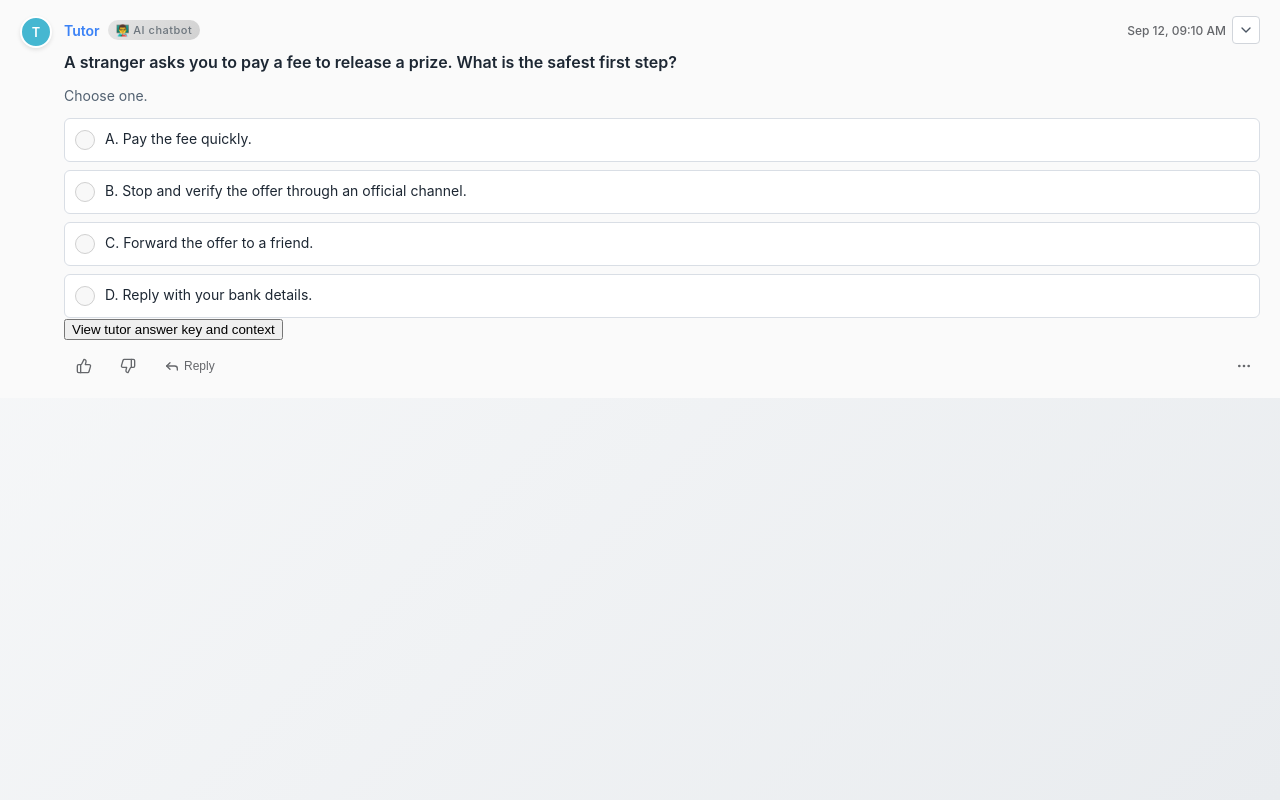
it: PostComment transfer assessment compatibility gate › keeps rejected private reads recoverable without showing private content
Click the button "View tutor answer key and context" at (173, 330), box [64,319,283,340]
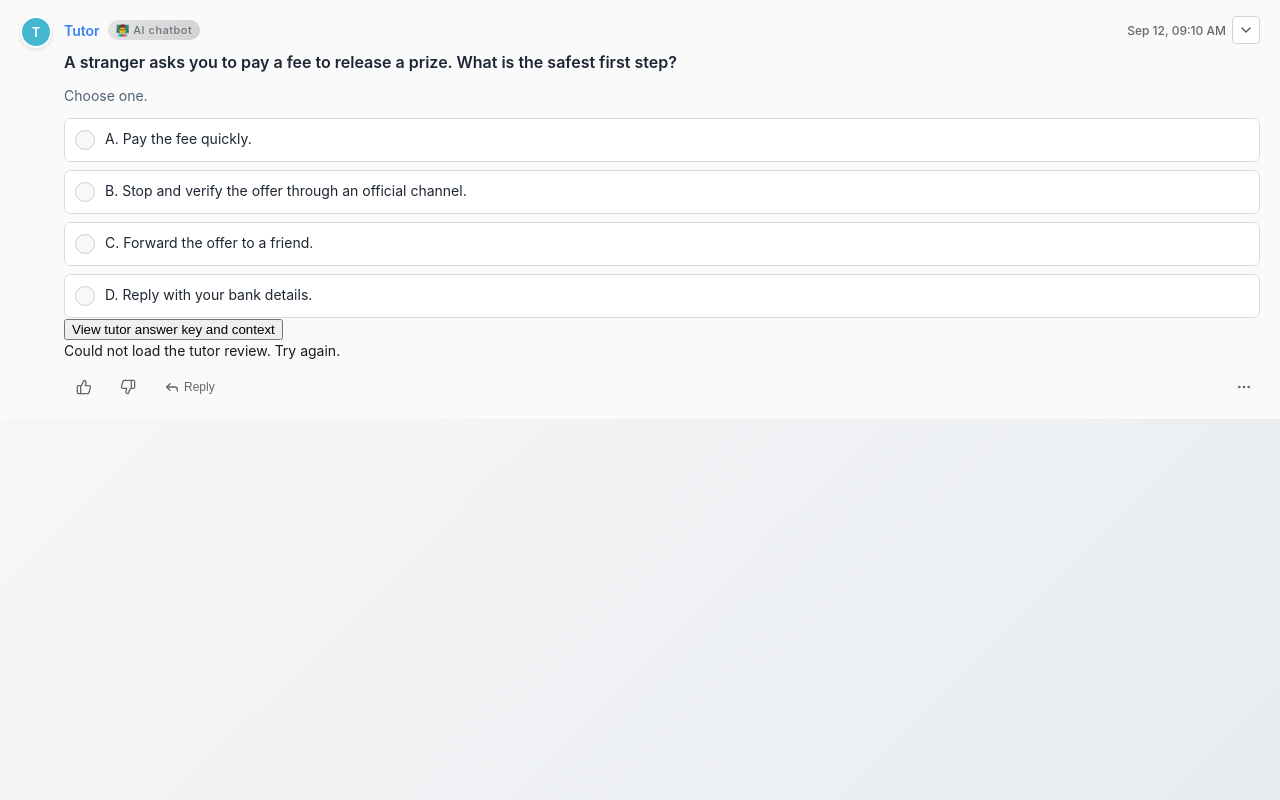
Now the message "Could not load the tutor review. Try again." is shown, box [64,342,340,359]
